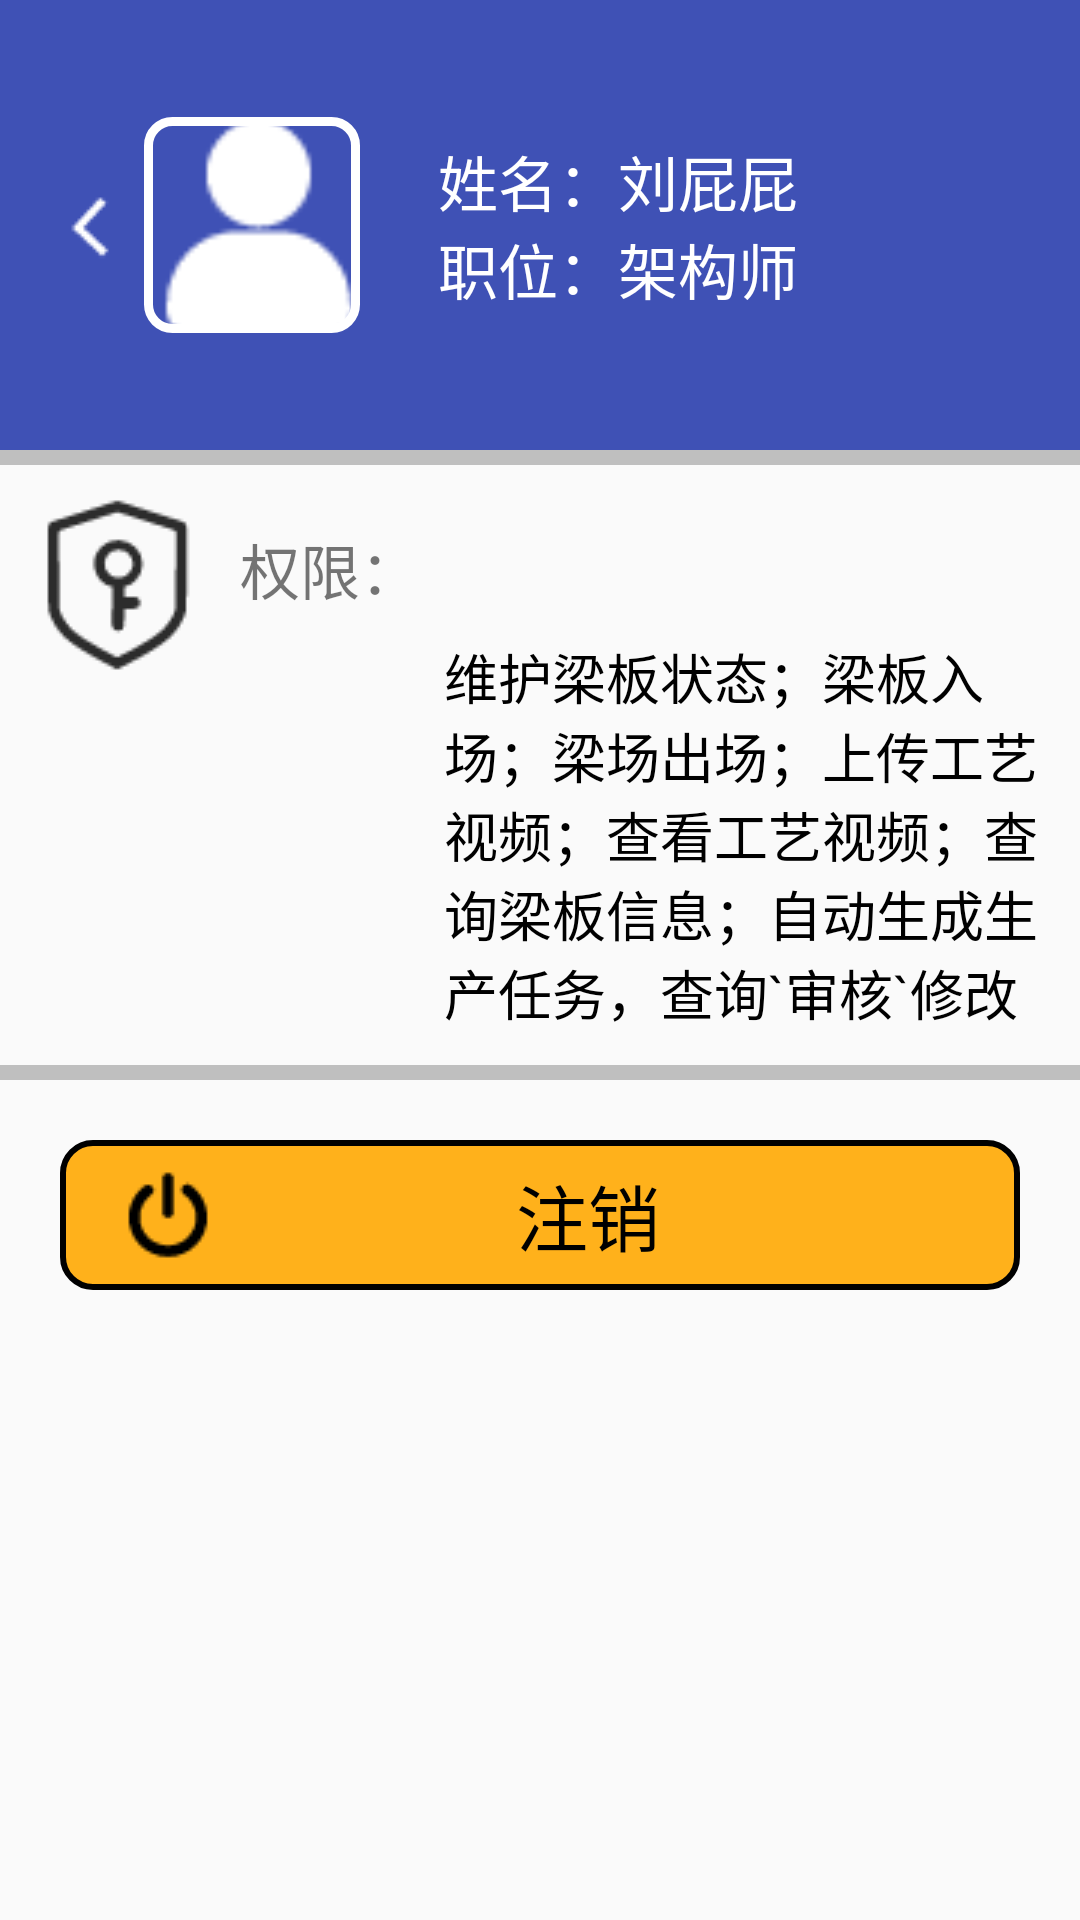

Icon click points for this 1080x1920 phone screenshot, format (x,y):
back: (90,226)
jurisdiction: (118,585)
user: (252,225)
